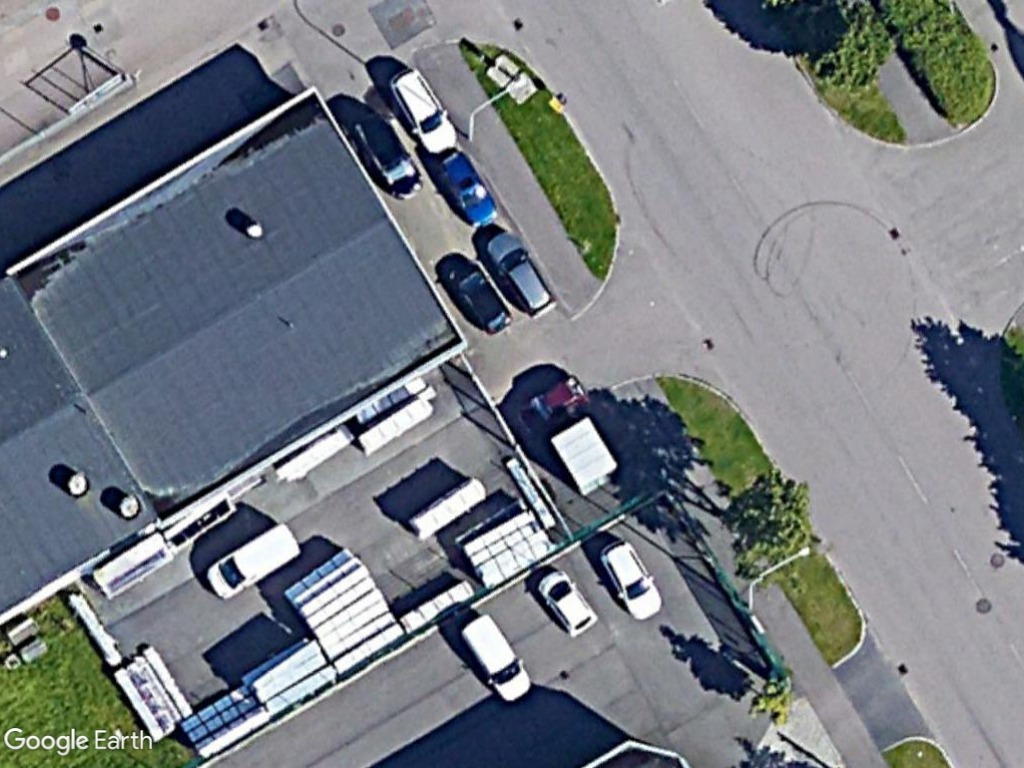car: (346, 106, 427, 204), (386, 65, 463, 159), (487, 226, 557, 319), (432, 142, 502, 233), (441, 253, 515, 338), (598, 538, 666, 623), (536, 561, 602, 639)
van: (204, 517, 304, 604), (457, 608, 540, 709)
